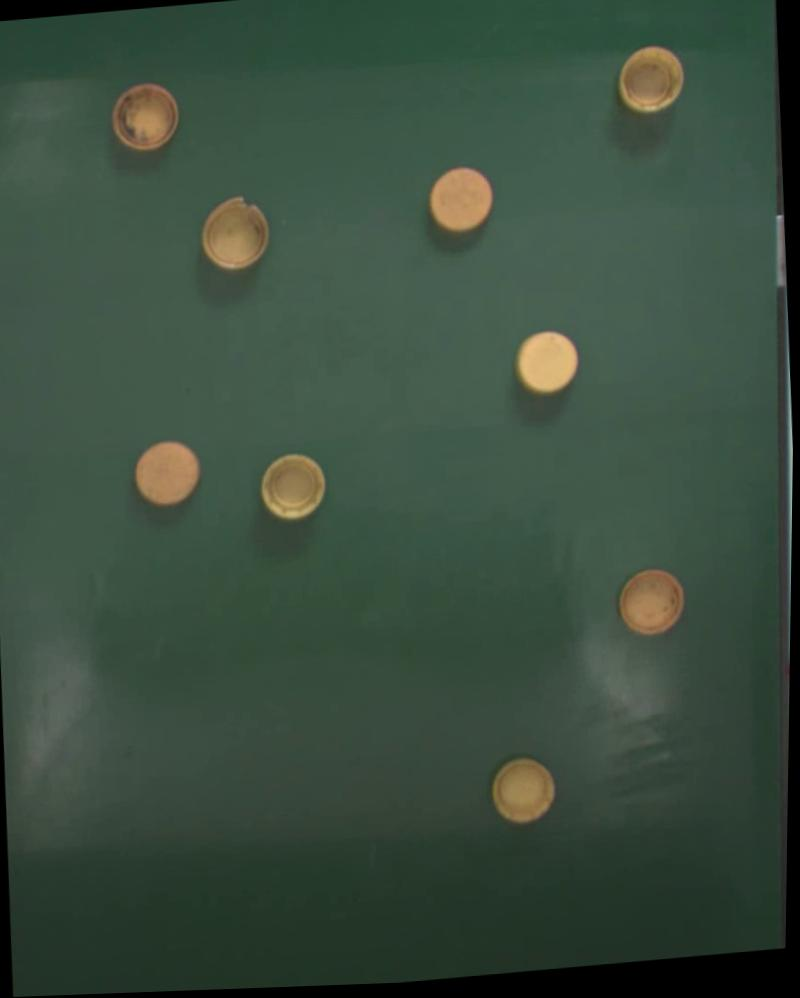others: (199, 192, 271, 271), (613, 43, 685, 116), (110, 80, 180, 154), (423, 162, 493, 235), (488, 755, 558, 826), (616, 566, 686, 637), (258, 451, 327, 522), (131, 437, 200, 508), (512, 325, 580, 394)
